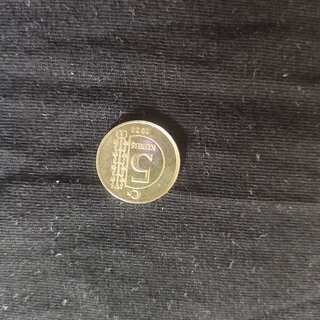5KURUS: (94, 118, 182, 206)
